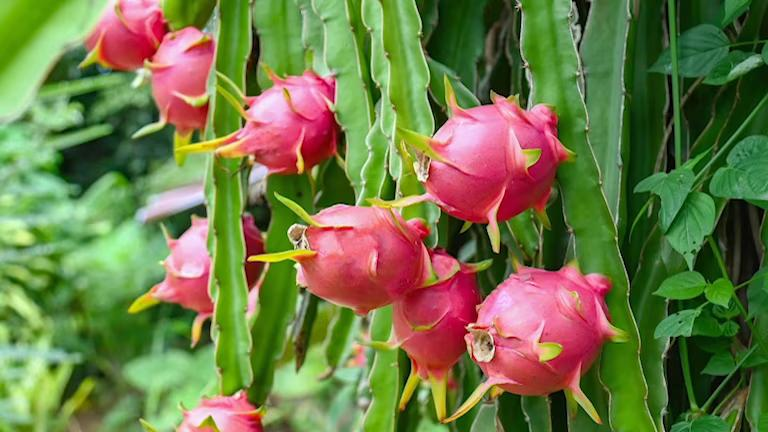dragon fruit: (385, 74, 591, 249), (457, 253, 633, 420), (239, 190, 465, 313), (187, 65, 364, 179), (401, 249, 484, 420), (141, 24, 222, 165)
